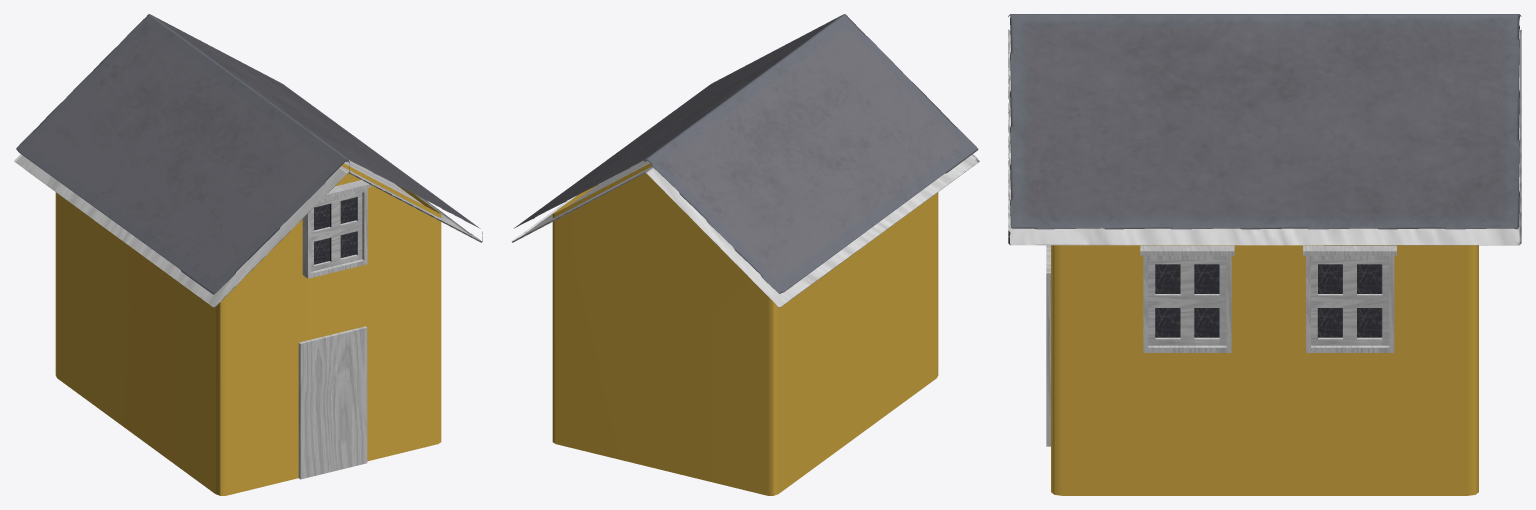
Rendered from House_3.fbx.
The picture shows the model from 3 angles, left to right: view 1: azimuth 30°, elevation 25°; view 2: azimuth 150°, elevation 25°; view 3: azimuth 270°, elevation 25°; orthographic projection. The views are drawn at different scales.
Parts seen in each view (by area): view 1: House_3; view 2: House_3; view 3: House_3.
Boxes of the visible parts, bbox=[...] form: House_3: bbox=[14, 14, 482, 495]; House_3: bbox=[511, 14, 979, 495]; House_3: bbox=[1008, 14, 1521, 495].
Size of the model in its own units: 4.02 by 4.59 by 5.19.
